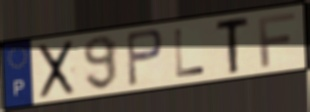9: (82, 34, 121, 93)
F: (256, 11, 298, 69)
L: (172, 27, 207, 79)
P: (124, 27, 166, 88)
T: (214, 14, 251, 77)
X: (37, 37, 77, 101)
